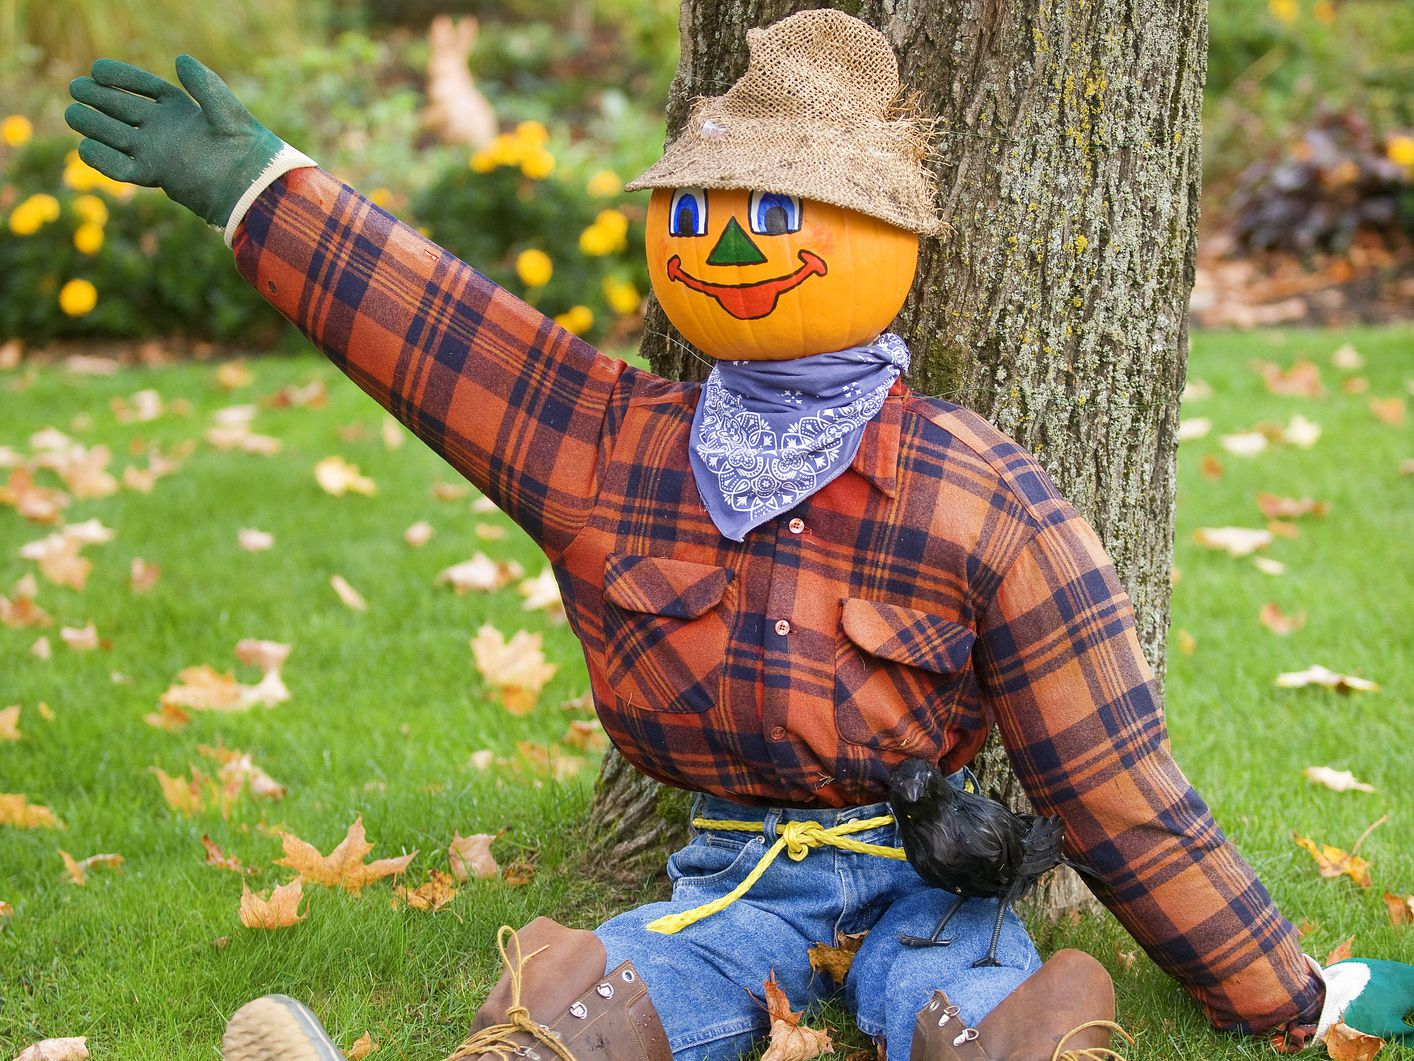person-like: (60, 15, 1412, 1061)
